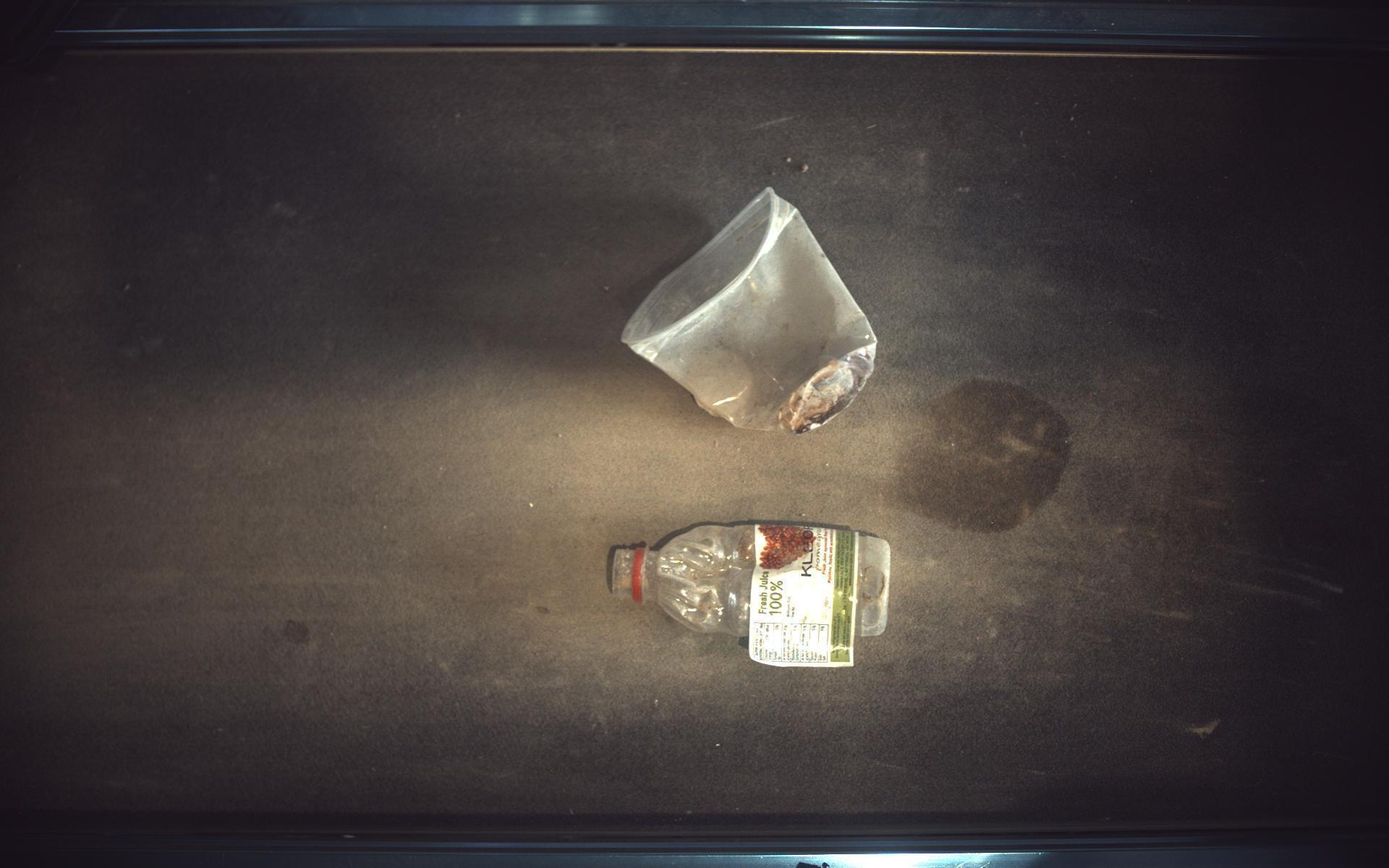general_w: (623, 187, 878, 433), (608, 522, 893, 668)
